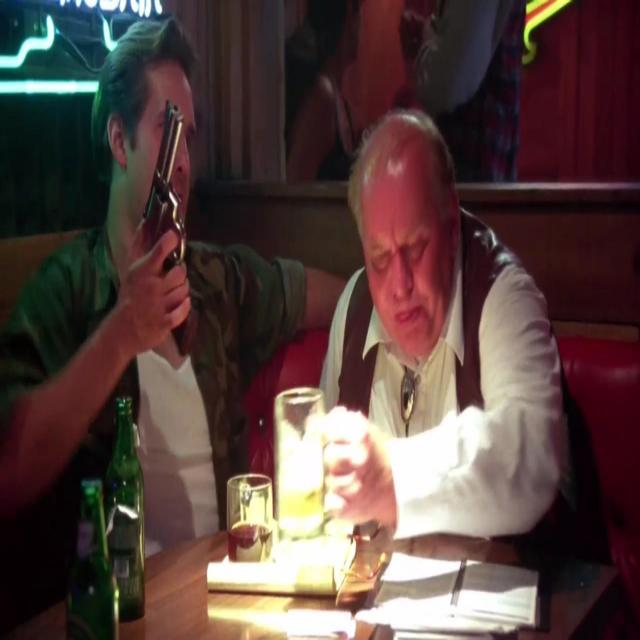gun-knife-thesis - v11 Yolov5 augmented: (136, 94, 193, 330)
